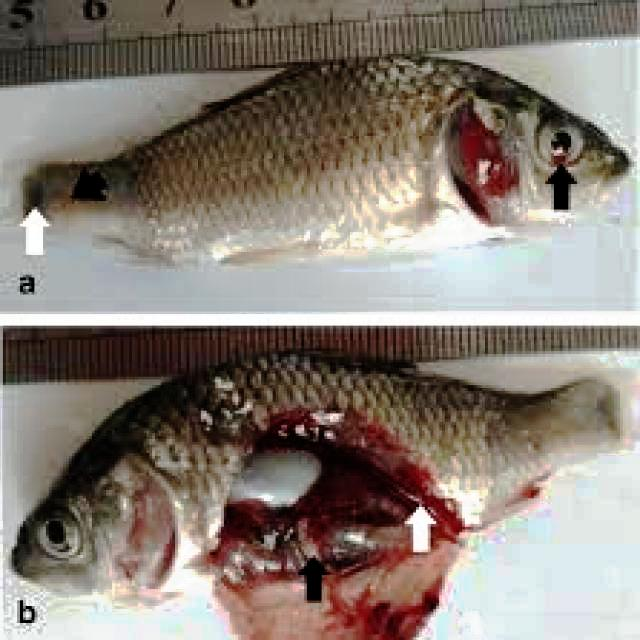Epizootic Ulcerative Syndrome -EUS-: (11, 353, 618, 639), (25, 55, 630, 265)
